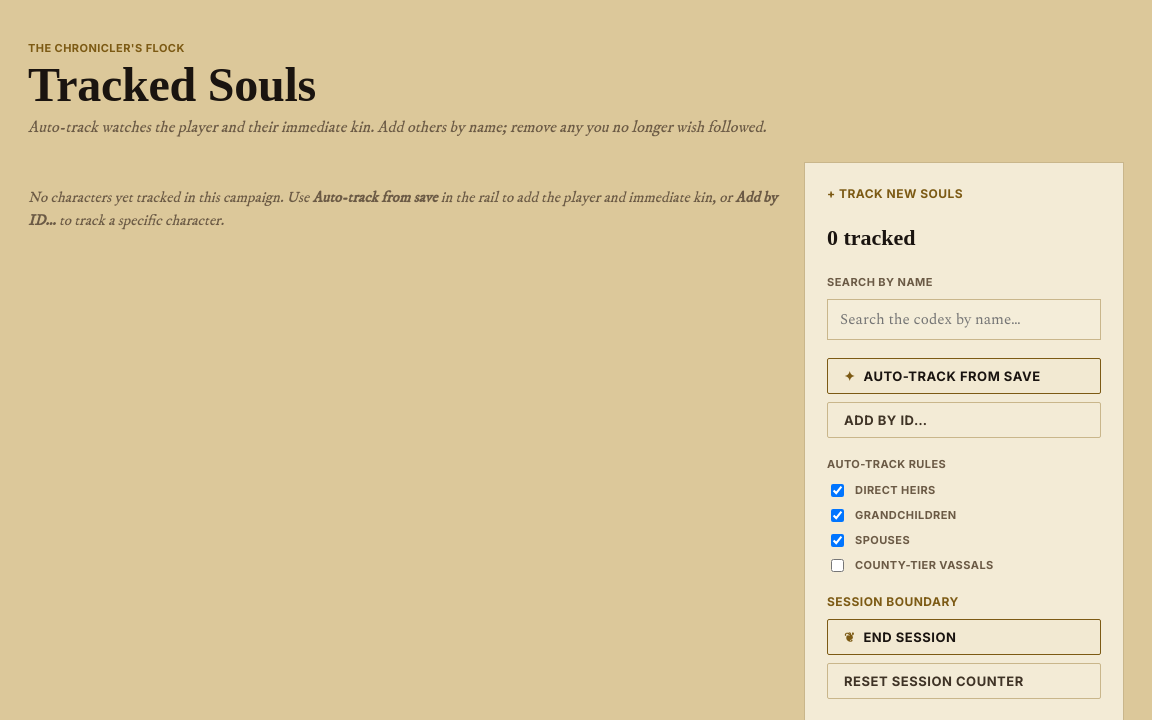
Test: TrackedPage › typeahead exposes combobox + aria-activedescendant contract
Type "Edw" into the dropdown with placeholder "Search the codex by name…" at (964, 319), box [827,299,1101,340]
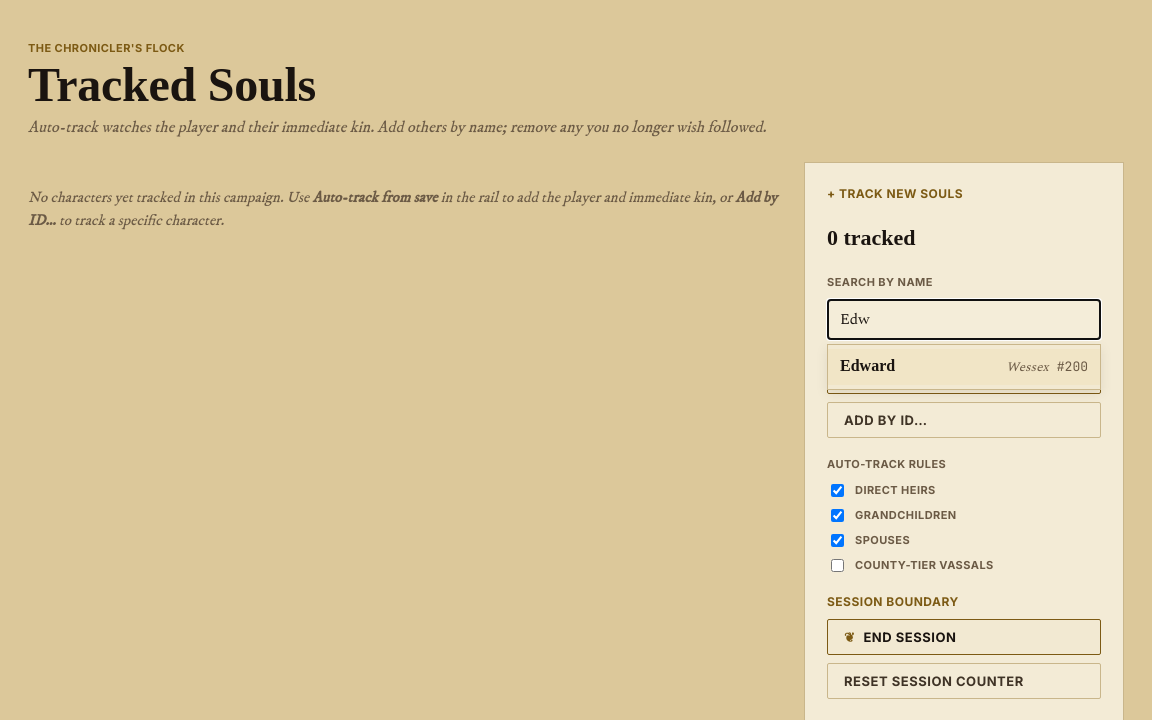
Now the text "Edward" is shown, box [840,357,895,374]
Now the dropdown with placeholder "Search the codex by name…" is expanded, box [827,299,1101,340]
